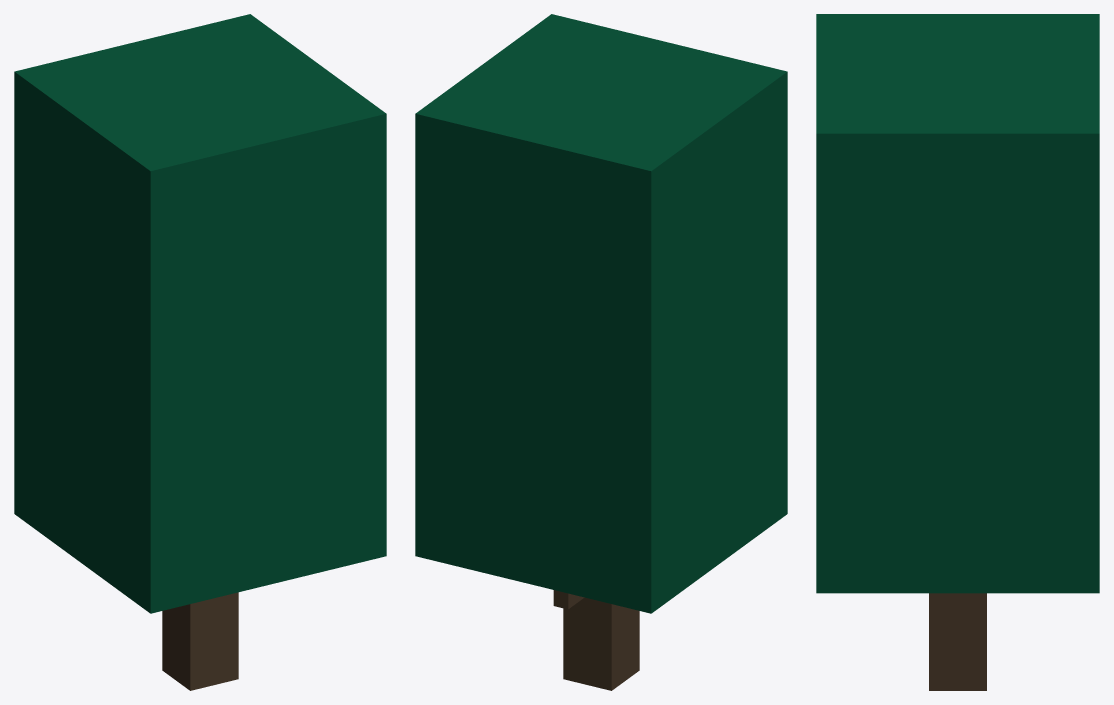
The model's file is Tree4.fbx.
3 renders of one model, left to right at view 1: azimuth 30°, elevation 25°; view 2: azimuth 150°, elevation 25°; view 3: azimuth 270°, elevation 25°, orthographic. The views are drawn at different scales.
Visible parts, largest first — view 1: Tree4; view 2: Tree4; view 3: Tree4.
Part boxes in pixels (x1,y1,x2,y2): Tree4: (14, 14, 386, 690); Tree4: (415, 14, 787, 690); Tree4: (816, 14, 1099, 690).
Size of the model in its own units: 24.49 by 57.74 by 24.49.
